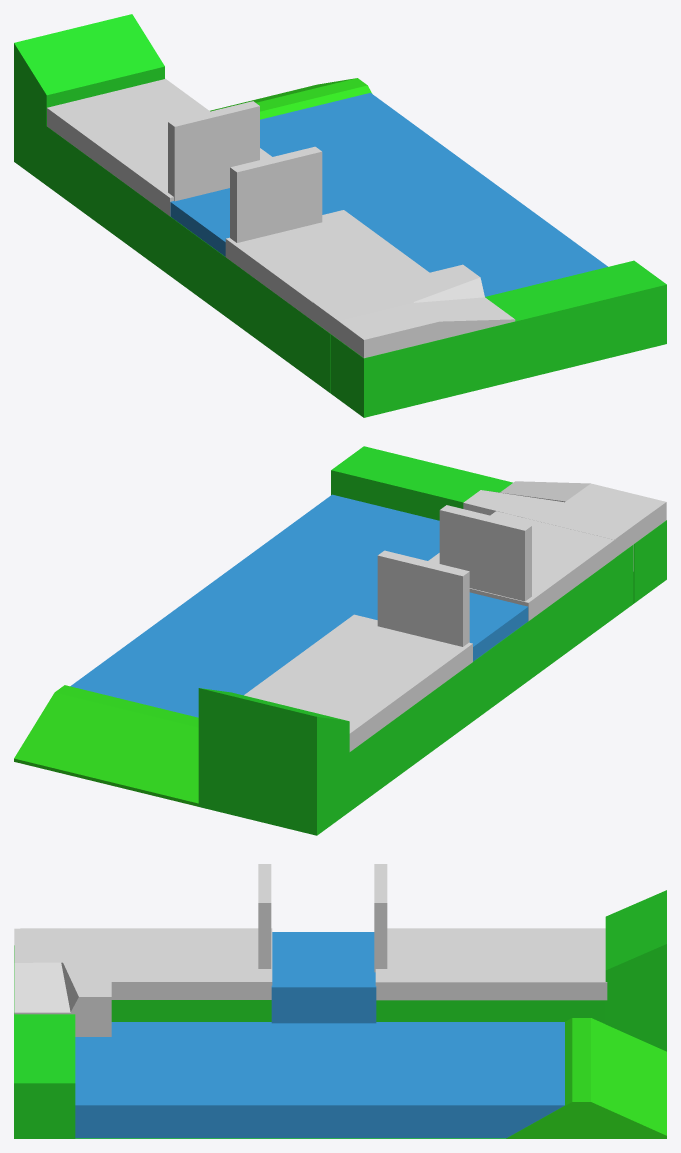
File: course03.glb
3 views of the same model, one above another, from view 1: azimuth 30°, elevation 25°; view 2: azimuth 150°, elevation 25°; view 3: azimuth 270°, elevation 25° (orthographic). The views are drawn at different scales.
Visible parts, largest first — view 1: course, lv2Ground01, Cube, supportLeft, supportRight, Cube.020, ramp; view 2: course, Cube, lv2Ground01, ramp, supportRight, supportLeft, Cube.020; view 3: Cube, lv2Ground01, course, ramp, Cube.020, supportRight, supportLeft.
Boxes of the visible parts, x1,y1,x2,y2 form: course: (14,14,666,417); lv2Ground01: (47,78,515,358); Cube: (260,93,607,296); supportLeft: (230,146,322,242); supportRight: (168,101,259,201); Cube.020: (170,188,342,256); ramp: (210,78,372,119); course: (198,446,666,835); Cube: (70,494,439,717); lv2Ground01: (244,481,666,751); ramp: (14,685,198,806); supportRight: (377,550,469,646); supportLeft: (439,505,531,601); Cube.020: (355,592,528,661); Cube: (75,1022,564,1138); lv2Ground01: (14,928,607,1036); course: (14,890,666,1138); ramp: (506,1018,666,1138); Cube.020: (271,932,376,1023); supportRight: (374,864,387,972); supportLeft: (258,864,271,968).
Size of what is drawn, in the model's own units: 16 by 7.5 by 32.
